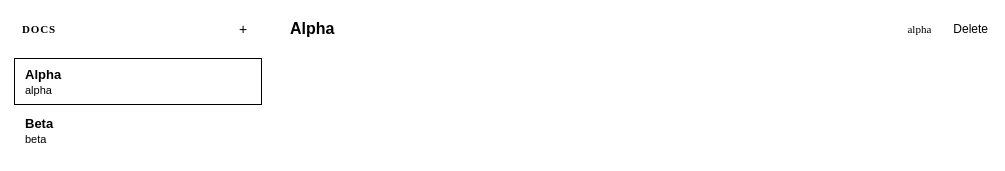
it: DocsPanel › switches the detail pane when another doc is selected
Click the text "Beta" at (39, 124), box 25,116 -> 53,131
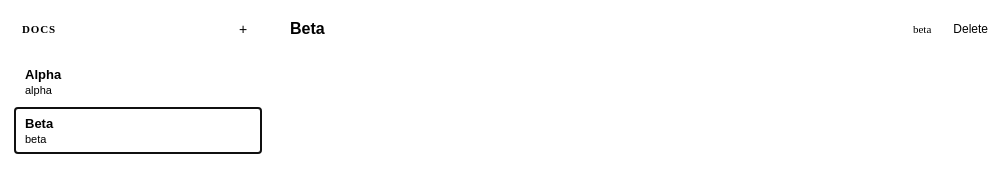
Check: the field showing "Beta" is shown, box 284,16 -> 903,42
